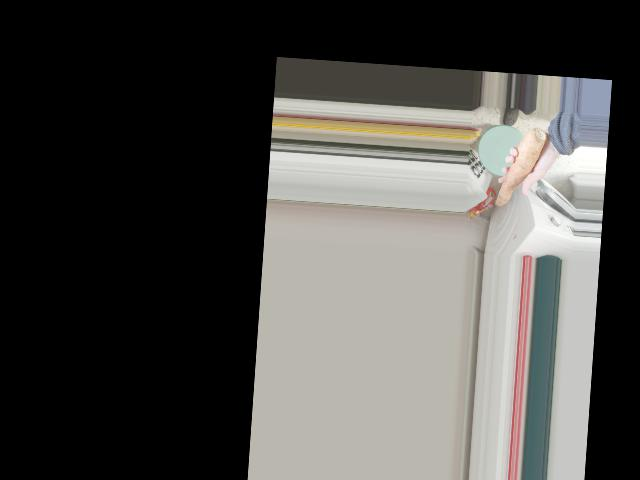sweet_potato: (491, 123, 549, 215)
